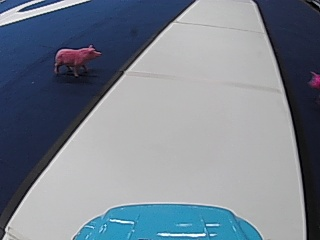pig: (51, 42, 101, 76)
